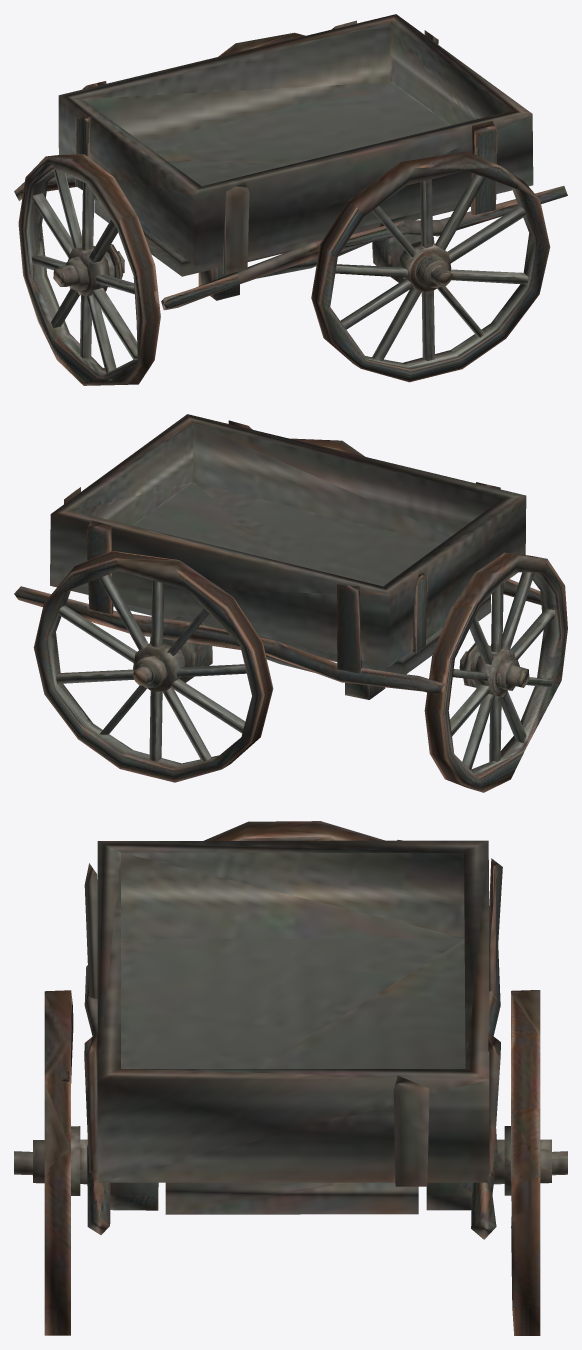
File: world-cart.glb
The picture shows the model from 3 angles, top to bottom: view 1: azimuth 30°, elevation 25°; view 2: azimuth 150°, elevation 25°; view 3: azimuth 270°, elevation 25°; orthographic projection. The views are drawn at different scales.
Size of the model in its own units: 2.5 by 1.23 by 1.89.
Materials: 1 (1 with a texture image).
